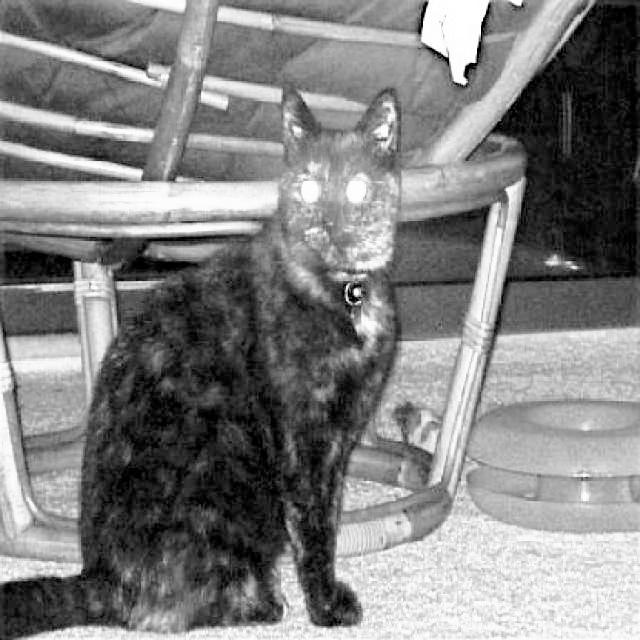Cat: (0, 63, 406, 640)
